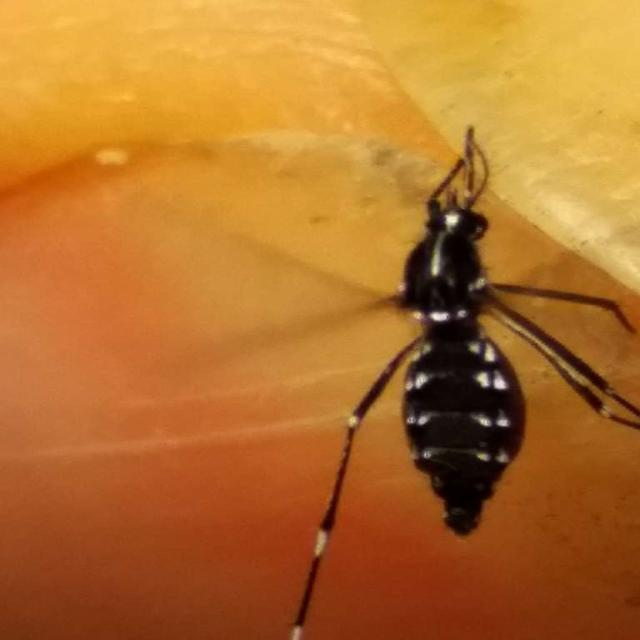albopictus: (248, 102, 615, 614)
